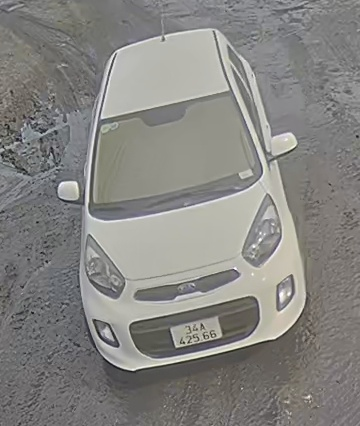vehicle plate: (162, 314, 225, 348)
